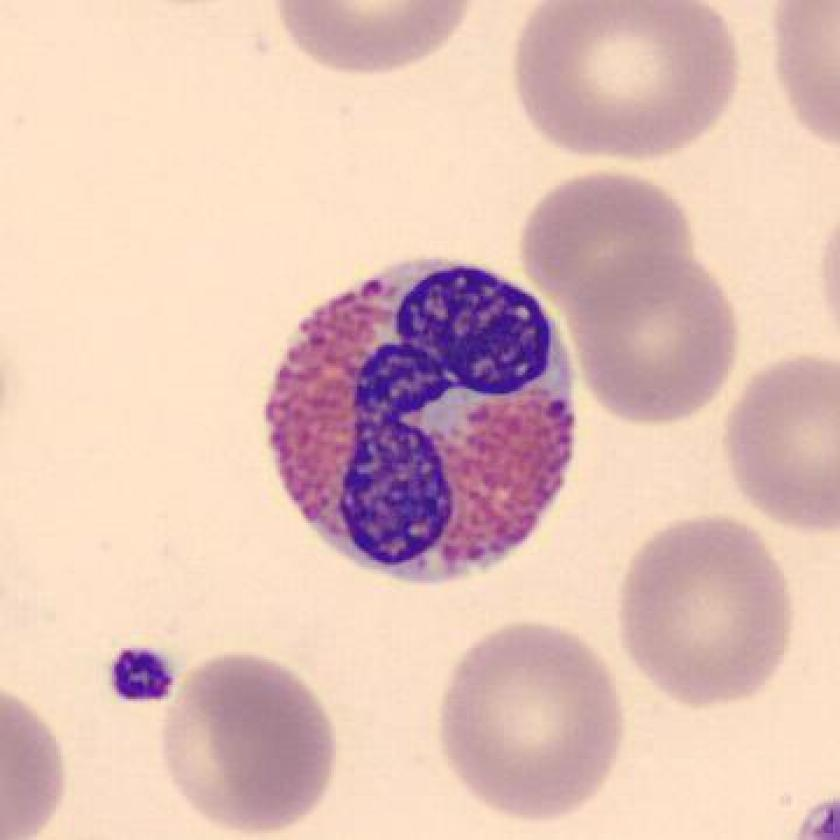eosinophil: (251, 244, 594, 596)
